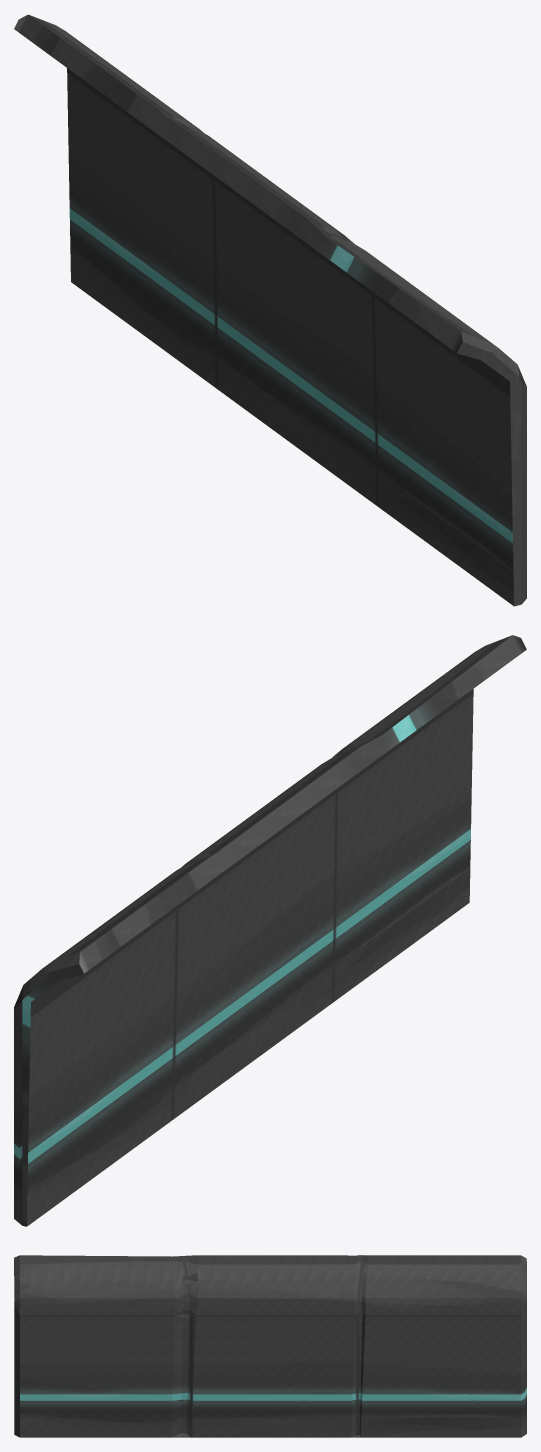
The model's file is wall.fbx.
The picture shows the model from 3 angles, top to bottom: view 1: azimuth 30°, elevation 25°; view 2: azimuth 150°, elevation 25°; view 3: azimuth 270°, elevation 25°; orthographic projection. The views are drawn at different scales.
Visible parts, largest first — view 1: Cube; view 2: Cube; view 3: Cube.
Boxes of the visible parts, x1,y1,x2,y2 form: Cube: (14, 14, 526, 606); Cube: (14, 635, 526, 1226); Cube: (14, 1255, 526, 1437).
Size of the model in its own units: 153 by 550 by 1560.
